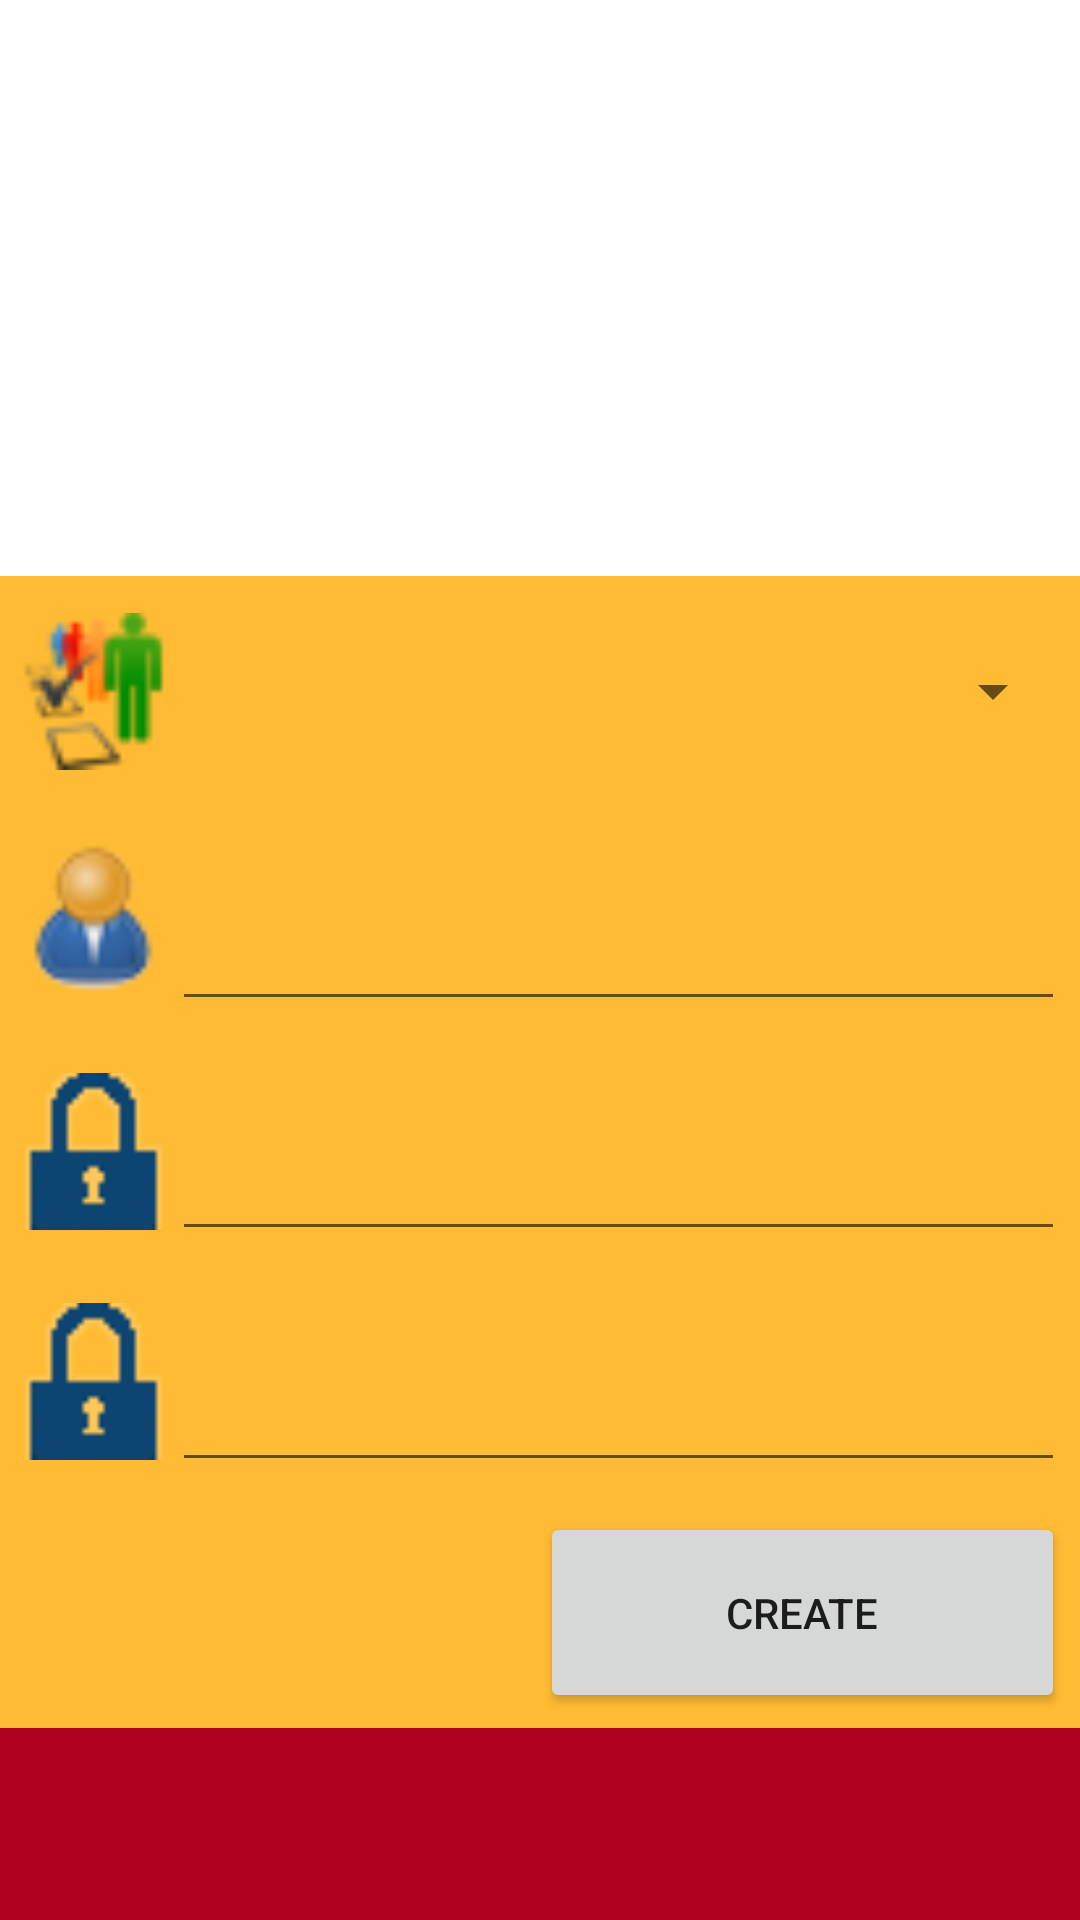

Icon click points for this 1080px x 1920px phone screenshot, format [x,y]:
lock: [93,1151], [93,1381]
user: [93,919]
usertype: [94,691]
